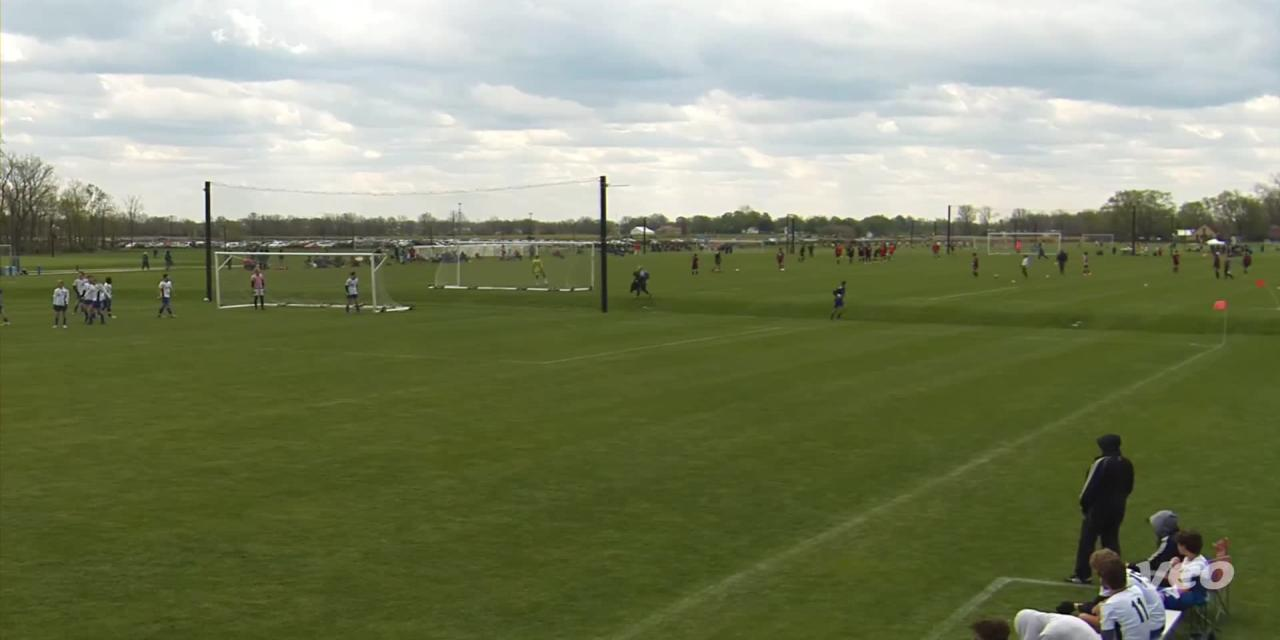goal: (203, 243, 415, 319)
